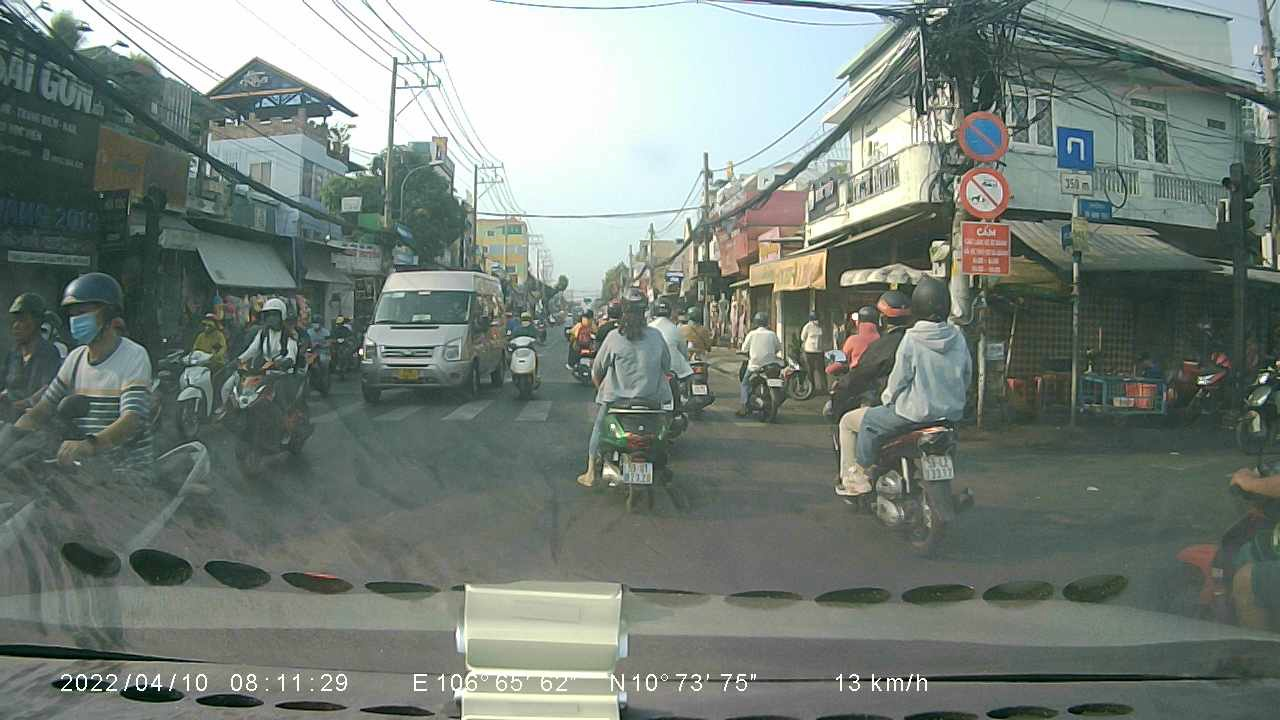Bien khac: (1052, 121, 1098, 173)
Cam do xe: (953, 106, 1015, 165)
